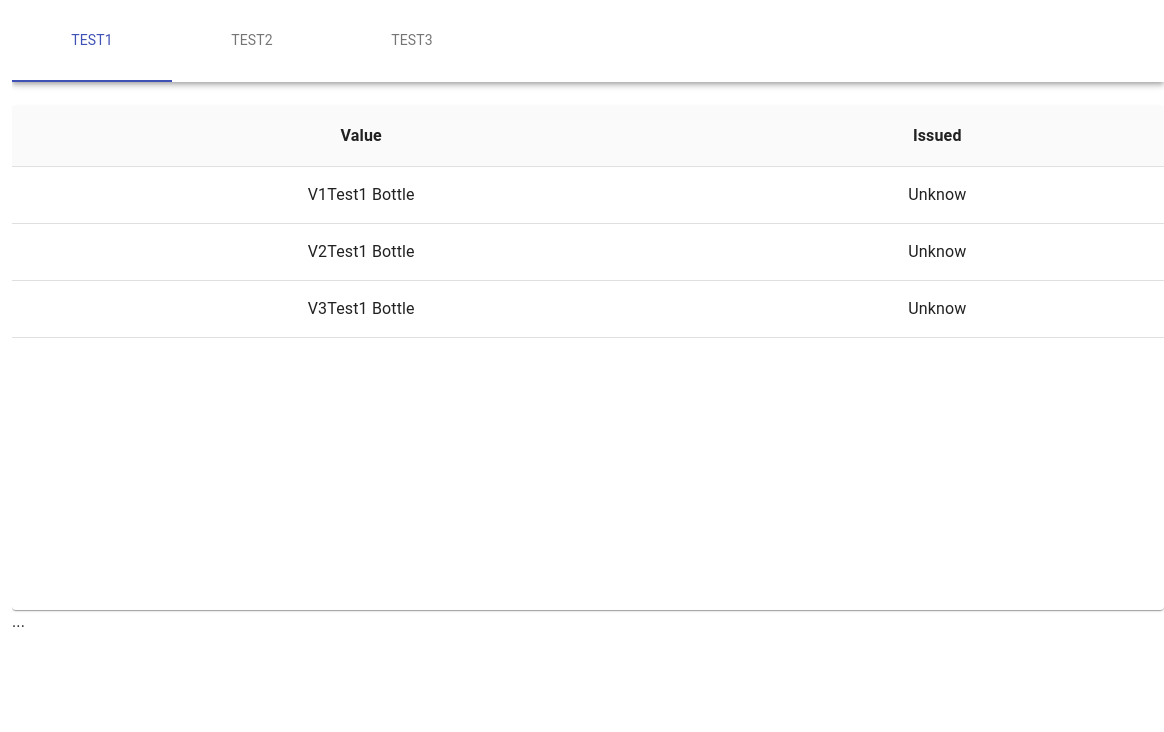
Test: <DiagReportPatientData /> › change tab DiagReportPatientData
The image size is (1164, 732).
Click the text "Test3": [412, 40] box [391,30,433,50]
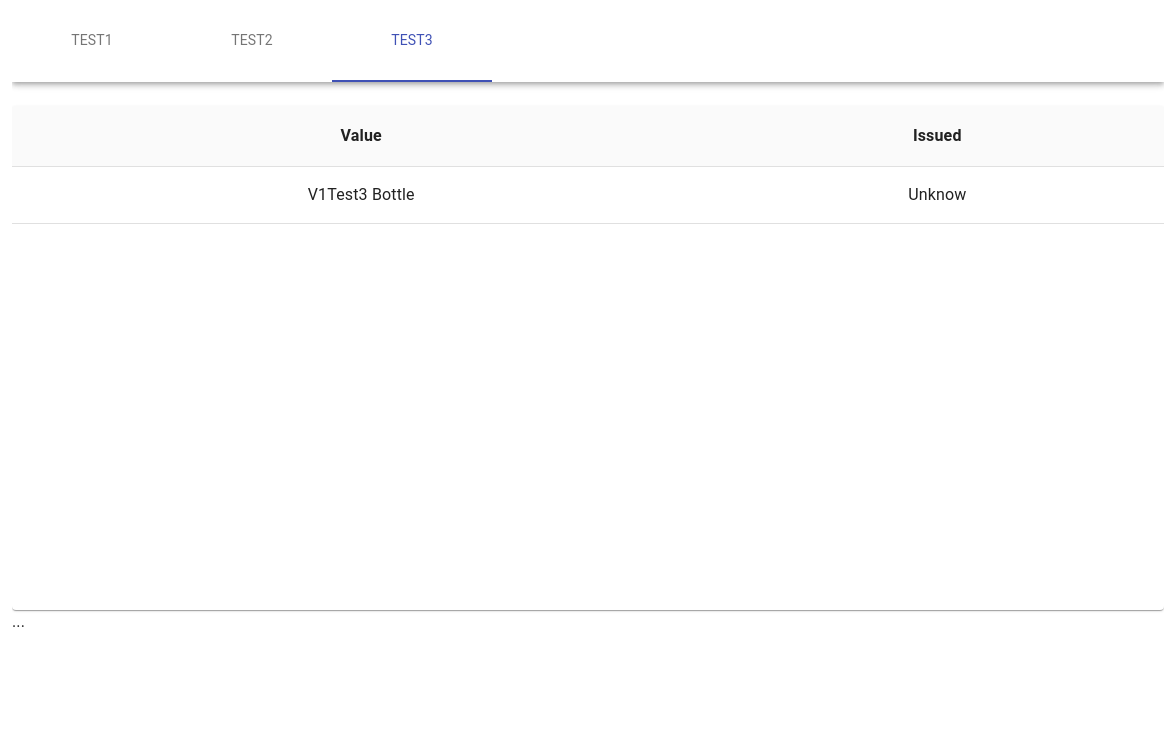
Check: the text "V1Test3 Bottle" is shown, box [308,185,415,204]
